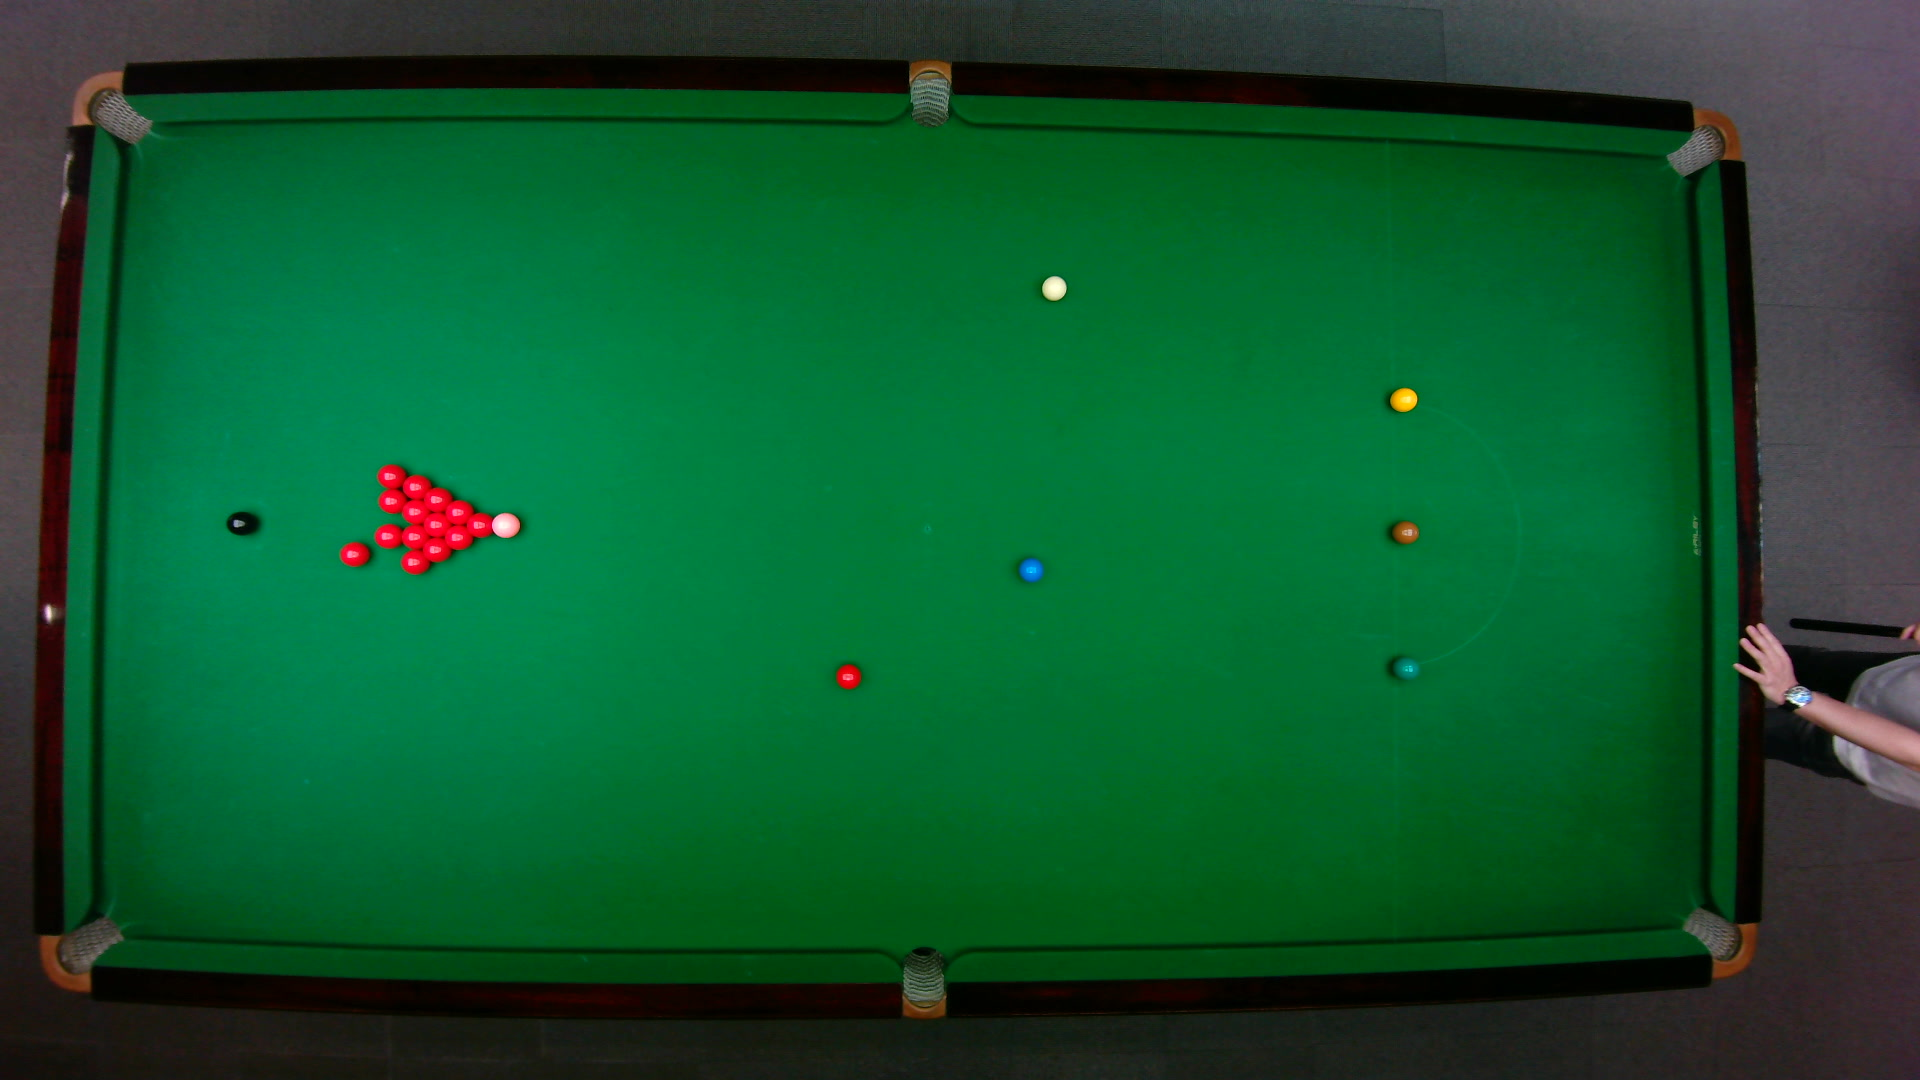bag: (37, 914, 125, 992), (69, 69, 152, 145), (1677, 905, 1758, 978), (1663, 107, 1741, 177), (901, 944, 944, 1021), (909, 57, 949, 128)
black: (224, 509, 256, 535)
blue: (1015, 556, 1044, 583)
brown: (1390, 520, 1419, 545)
green: (1390, 654, 1419, 680)
pink: (491, 510, 524, 541)
red: (338, 539, 373, 568), (398, 549, 433, 578), (375, 462, 407, 491), (421, 535, 454, 564), (422, 485, 455, 514), (443, 524, 476, 551), (443, 498, 476, 526), (400, 498, 433, 526), (373, 521, 404, 550), (465, 510, 496, 539), (376, 491, 409, 517), (400, 472, 433, 498), (833, 662, 862, 690), (401, 526, 431, 550), (423, 514, 454, 537)
white: (1038, 273, 1068, 301)
yellow: (1387, 385, 1418, 411)
zone: (1389, 400, 1520, 666)
